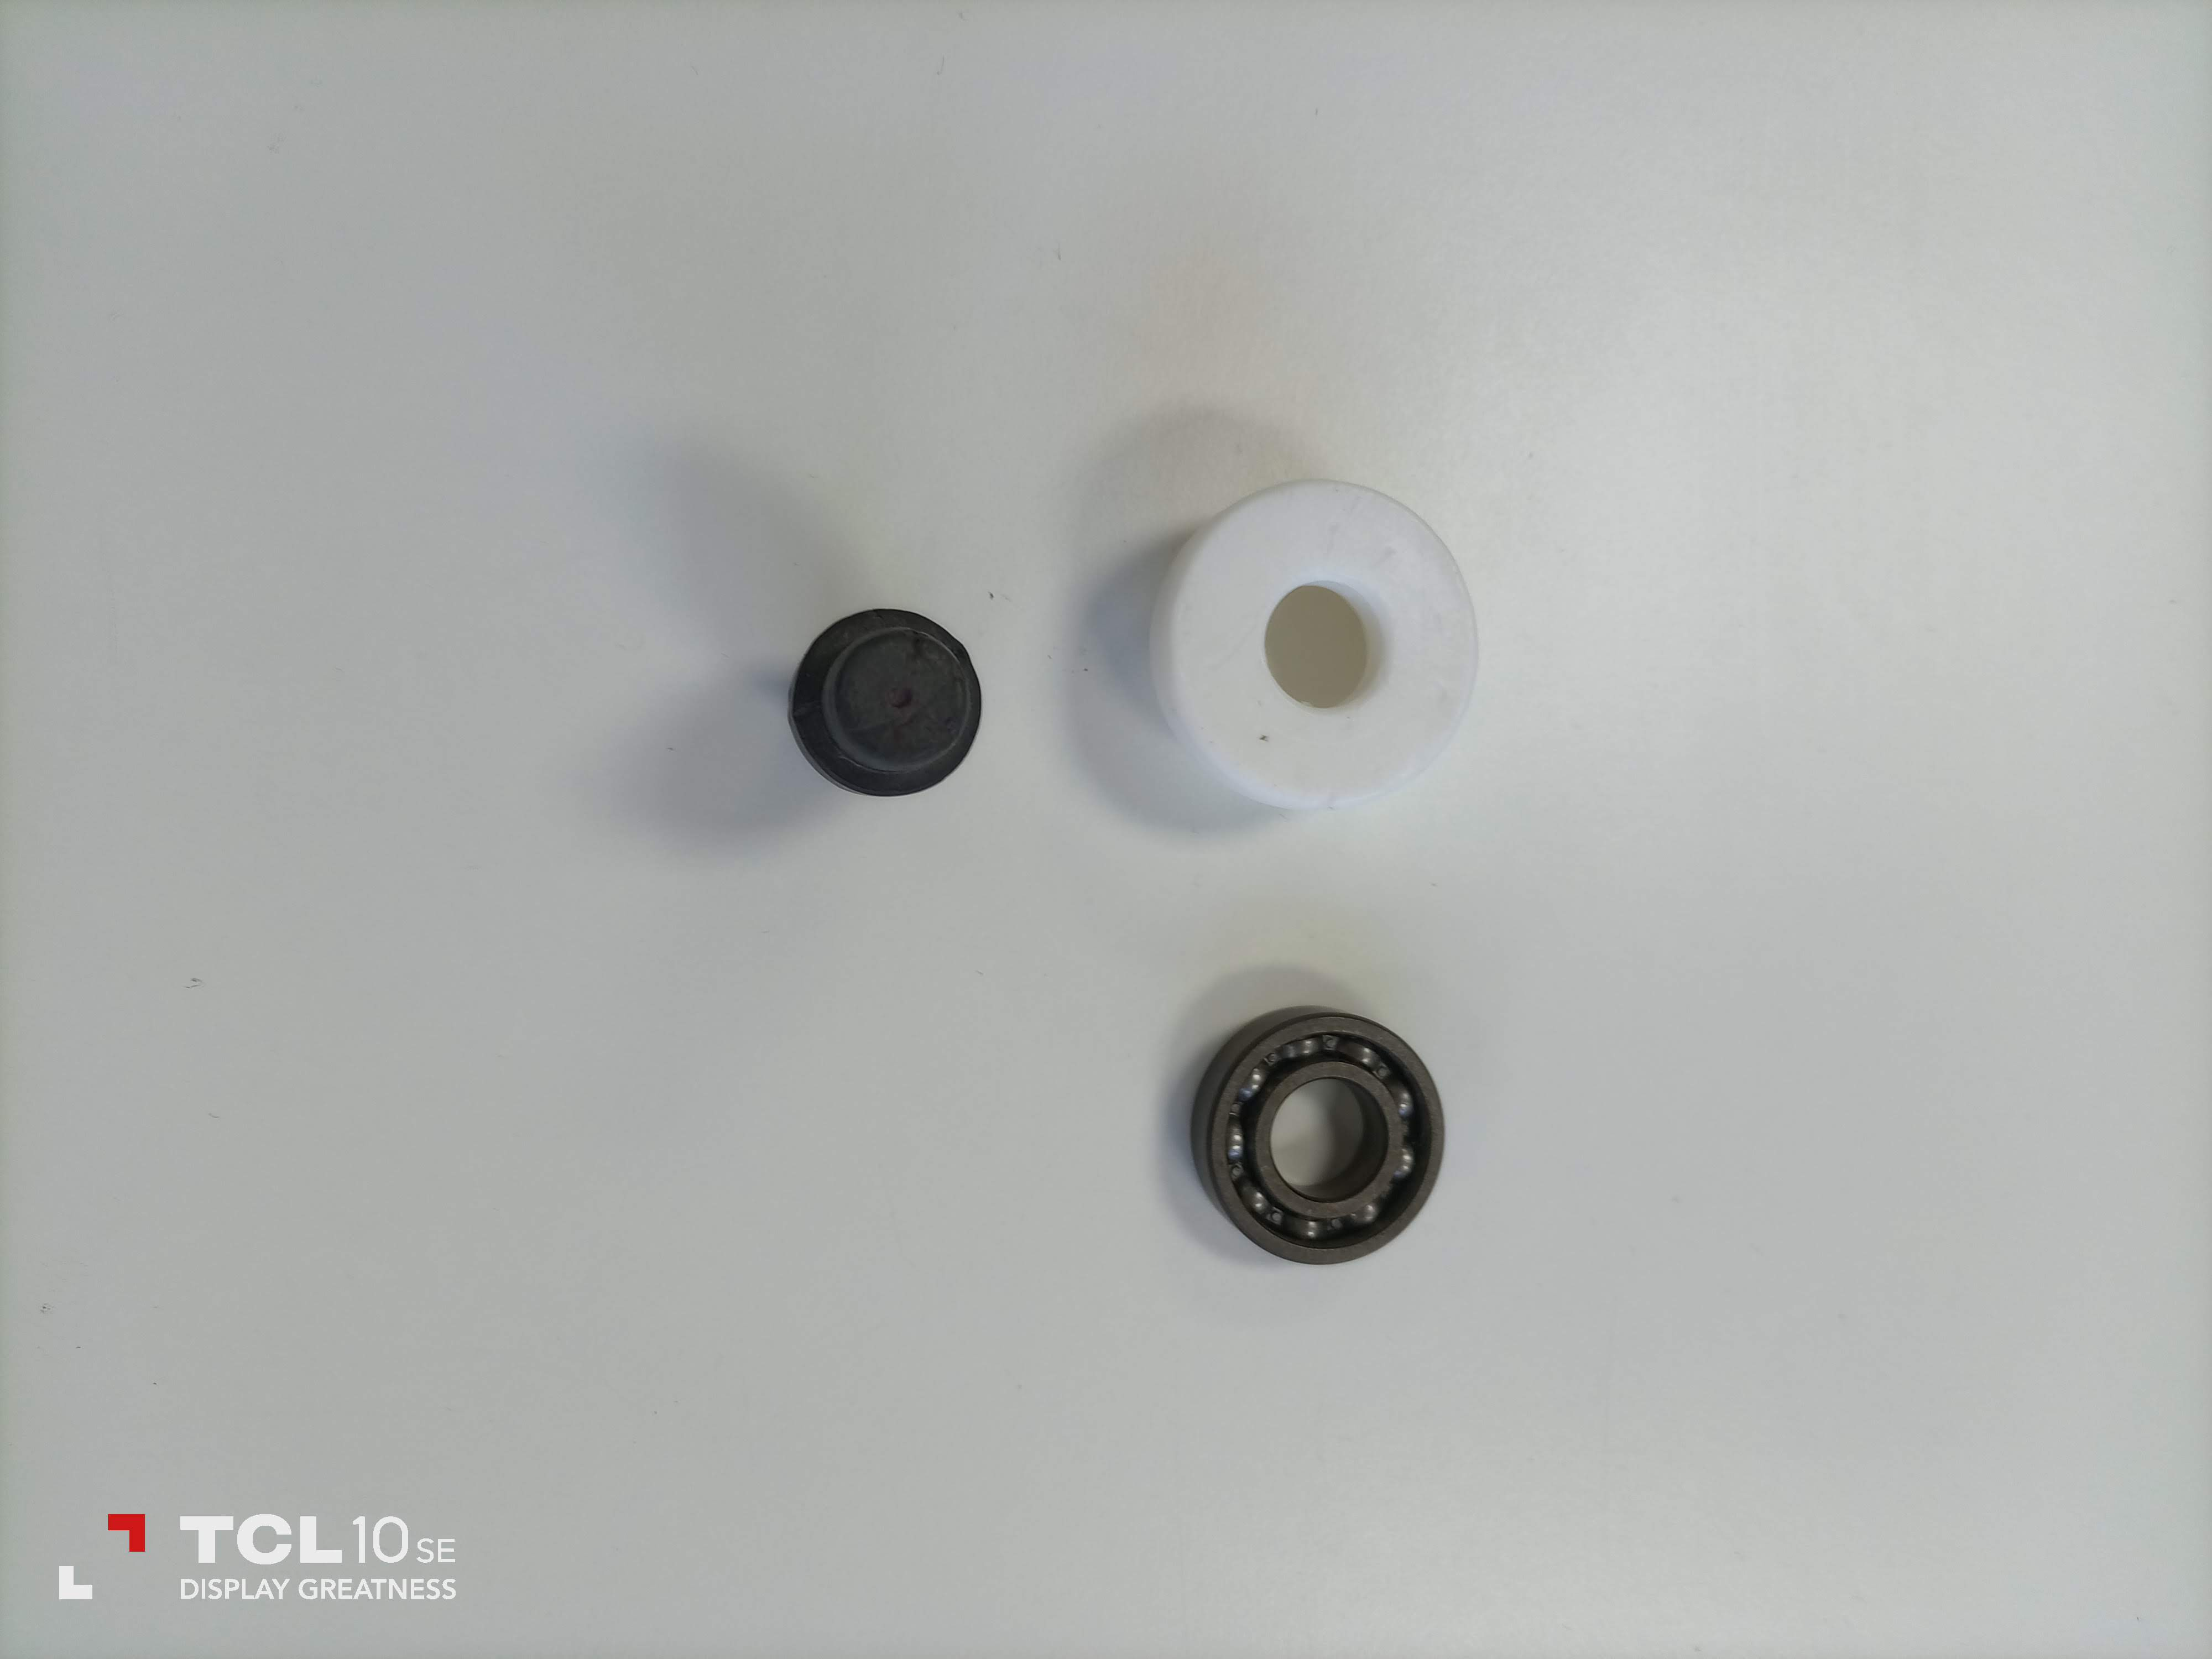Ardatza: (786, 613, 974, 802)
Roda: (1197, 1004, 1439, 1263)
Tapa: (1163, 484, 1479, 812)
